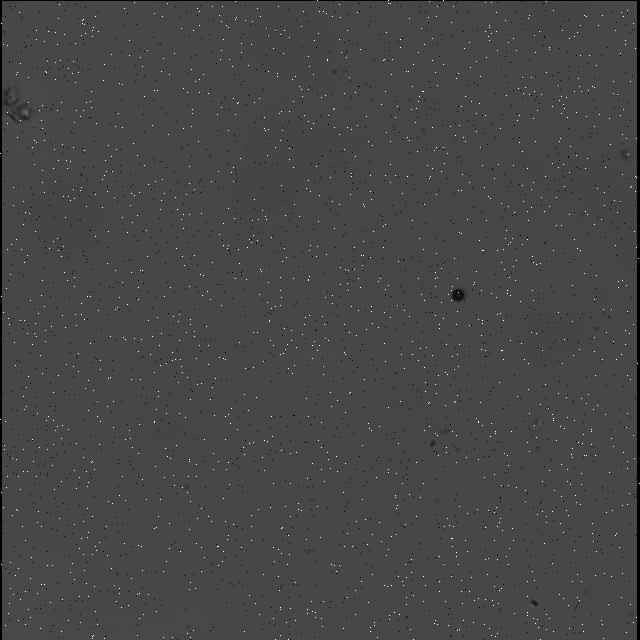microbeads: (450, 286, 470, 304)
